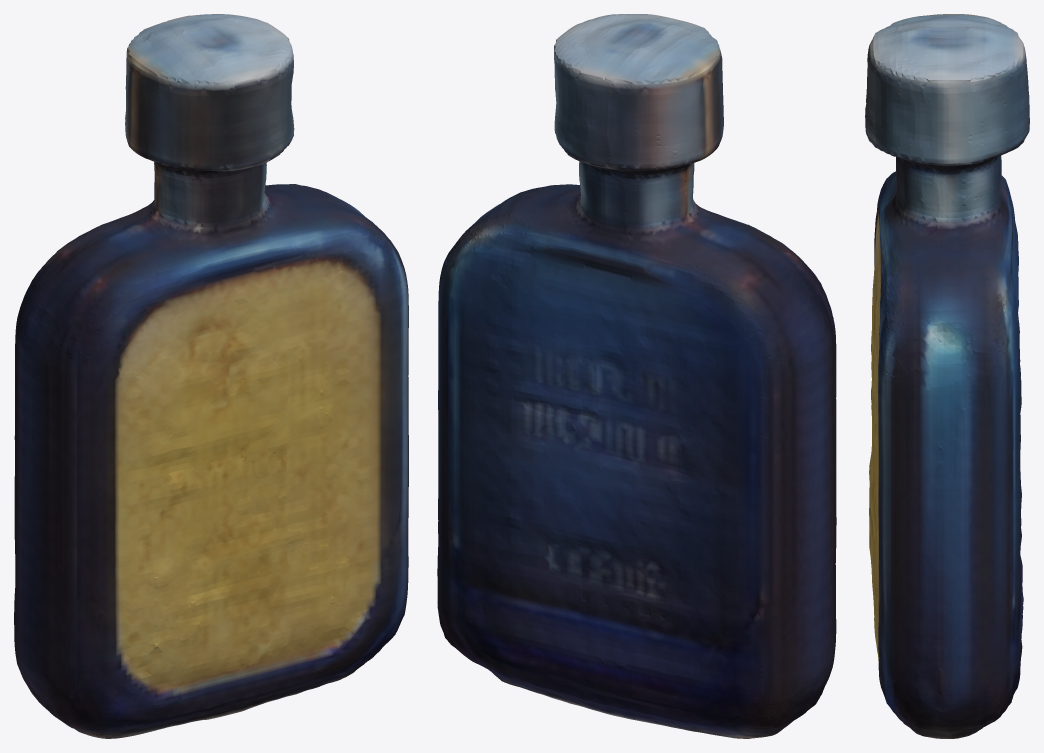
The model's file is product3.glb.
3 views of the same model, side by side, from view 1: azimuth 30°, elevation 25°; view 2: azimuth 150°, elevation 25°; view 3: azimuth 270°, elevation 25° (orthographic). The views are drawn at different scales.
Visible parts, largest first — view 1: world; view 2: world; view 3: world.
Part boxes in pixels (x1,y1,x2,y2): world: (14,14,408,738); world: (437,14,836,738); world: (865,14,1029,738).
Bounding box in the file's own units: 1.14 × 1.97 × 0.4568.
